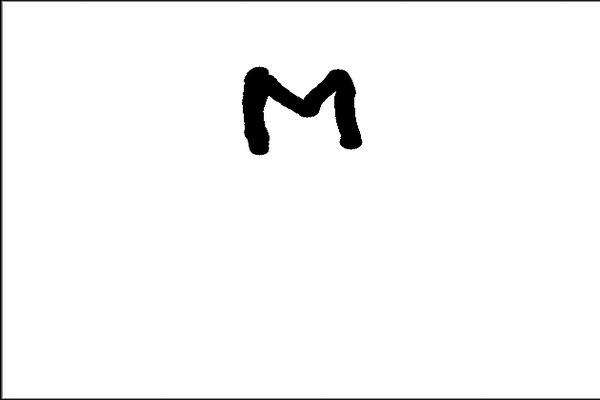M: (228, 63, 364, 157)
